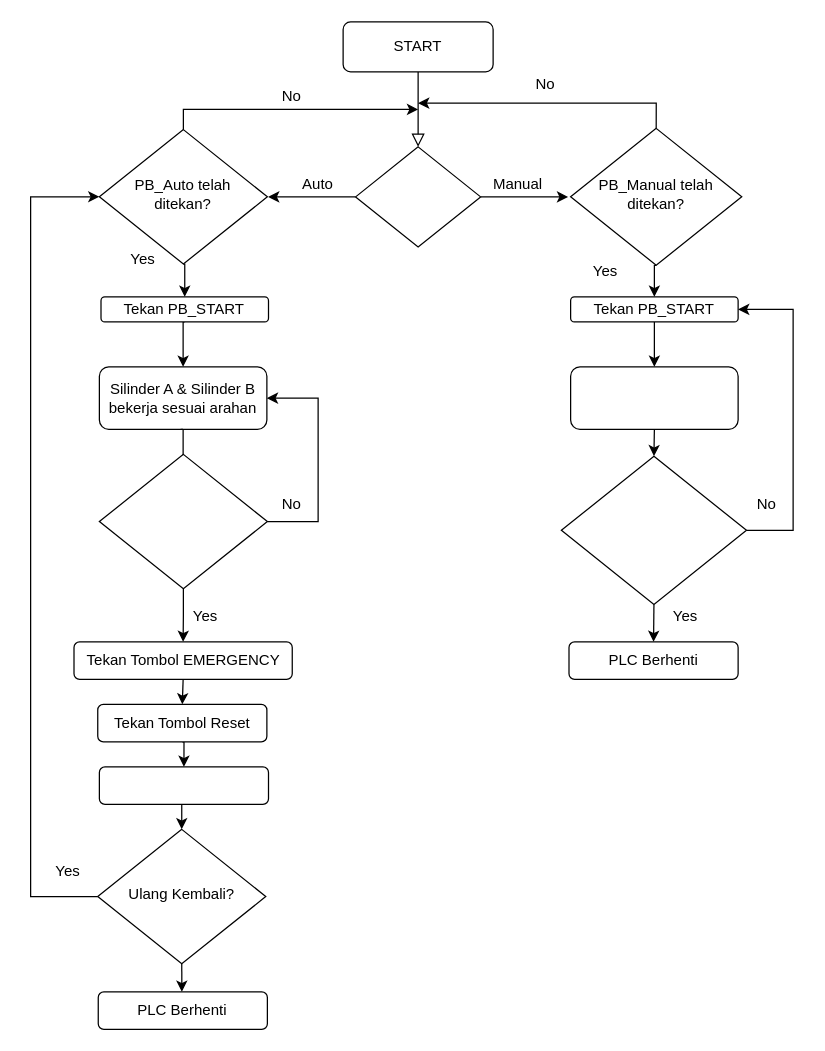
Some shapes in this 825 by 1051 pixel diagram are drawn without their labels. Here are the shapes that lost their labels. From the top down, the centre of each, then its label:
At pixel 417 196: "Mode?".
At pixel 653 397: "Silinder bekerja 1 step".
At pixel 182 521: "Terdapat Masalah?".
At pixel 653 529: "Silinder telah bekerja dalam 1 siklus?".
At pixel 183 785: "Tekan Tombol Return".
